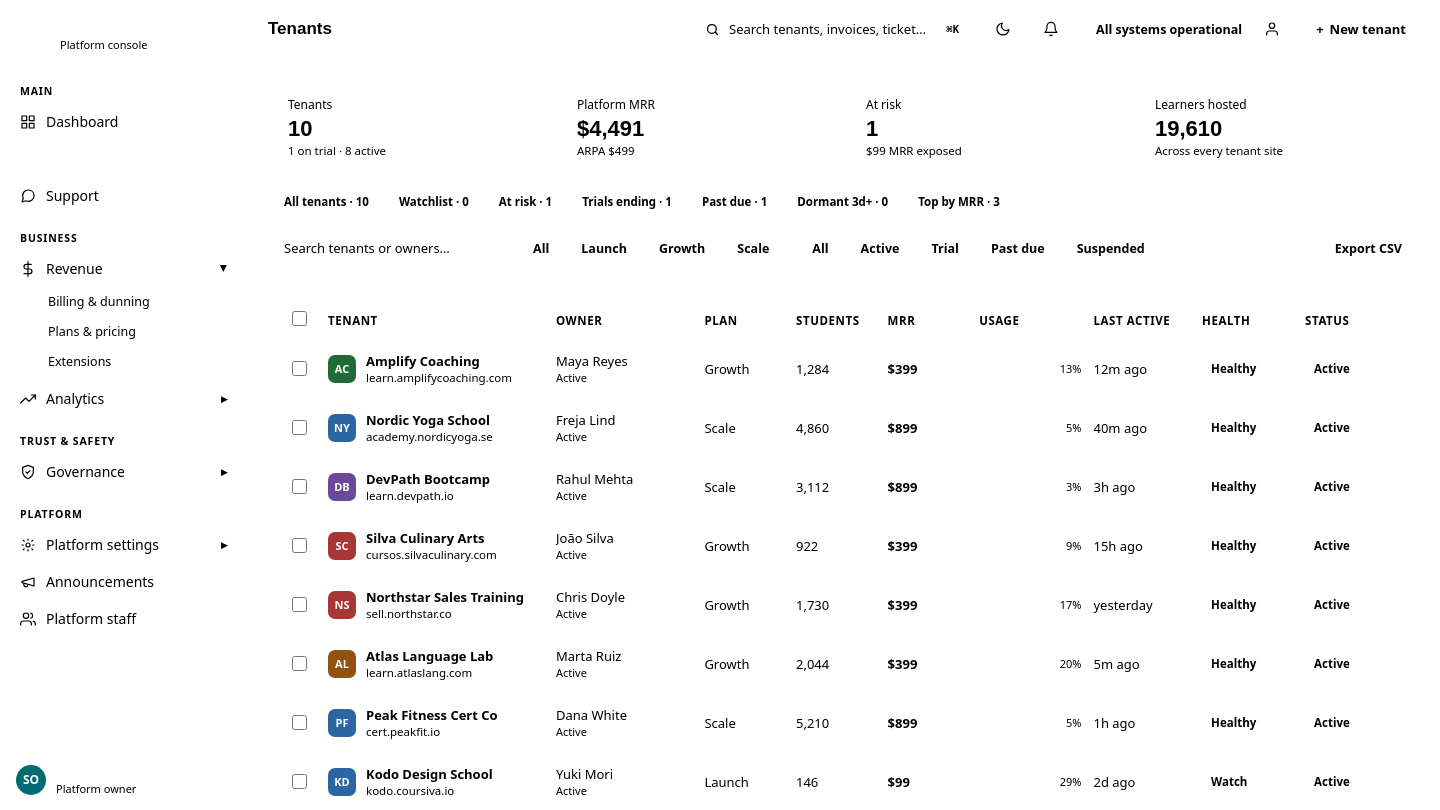
Test: tenant directory › searches by owner name
The image size is (1440, 810).
Step 1. Type "freja" into the search field labelled "Search tenants" → (392, 248), box x1=272 y1=231 x2=512 y2=265
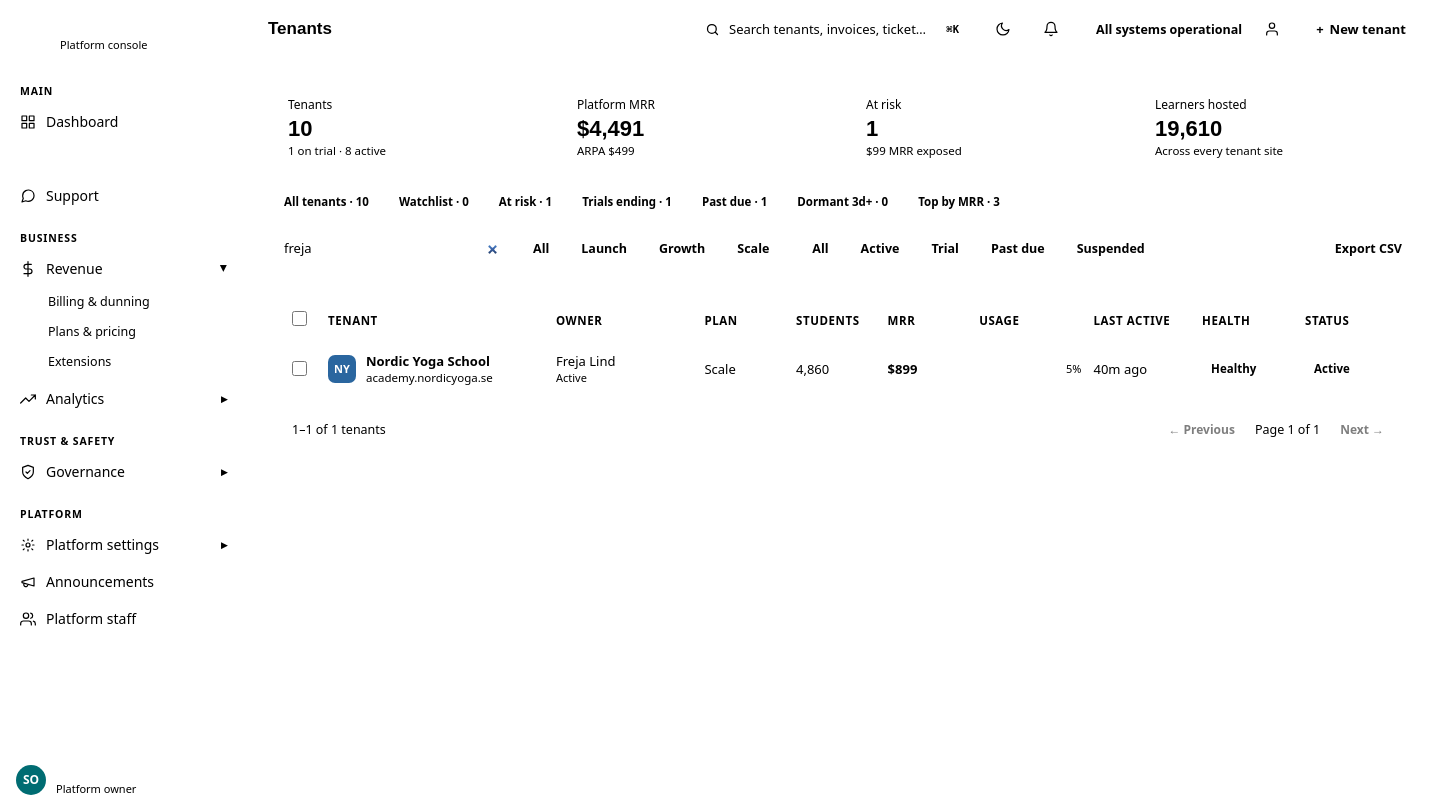
expect the link "Nordic Yoga School" is shown: met, box x1=366 y1=352 x2=493 y2=370
expect the number of rows is 2: met, box x1=292 y1=311 x2=1350 y2=328; x1=292 y1=352 x2=1350 y2=385
